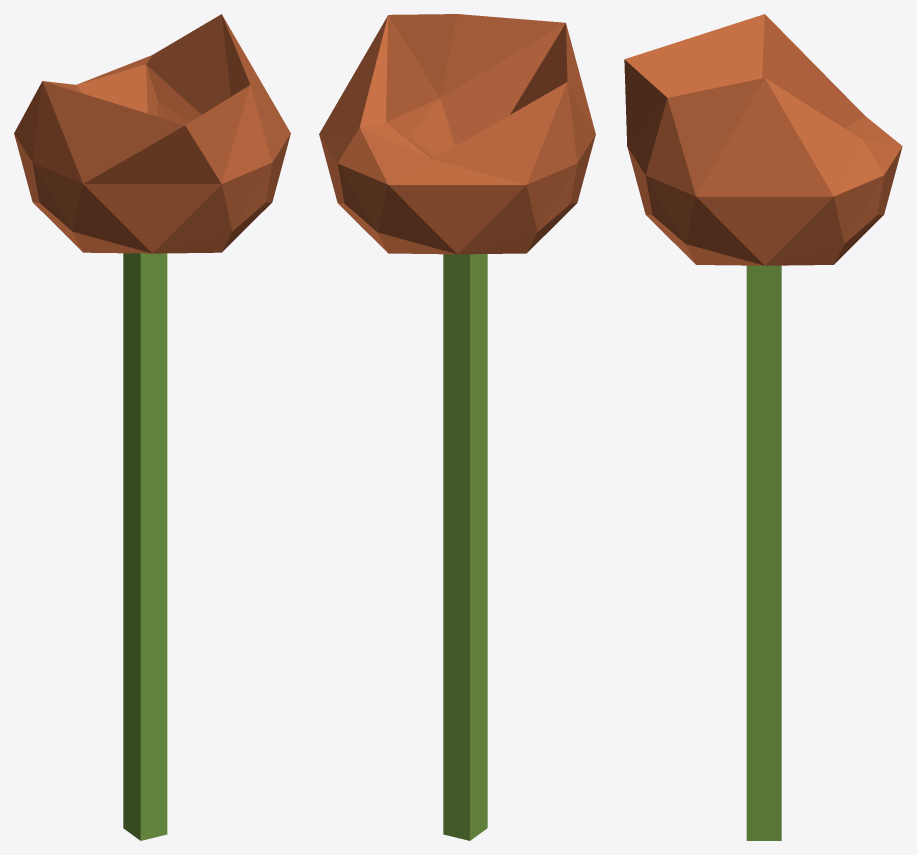
Rendered from herb10.fbx.
The picture shows the model from 3 angles, left to right: view 1: azimuth 30°, elevation 25°; view 2: azimuth 150°, elevation 25°; view 3: azimuth 270°, elevation 25°; orthographic projection.
Visible parts, largest first — view 1: Sphere_3; view 2: Sphere_3; view 3: Sphere_3.
Part boxes in pixels (x1=…): Sphere_3: x1=14, y1=14, x2=290, y2=840; Sphere_3: x1=319, y1=14, x2=595, y2=840; Sphere_3: x1=624, y1=14, x2=902, y2=840.
Bounding box in the file's own units: 12.53 × 42.7 × 13.56.
